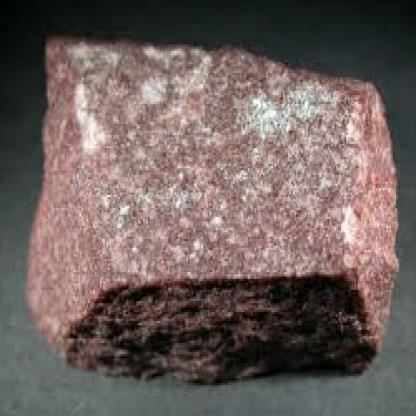Metamorphic_Quartize: (20, 31, 398, 392)
